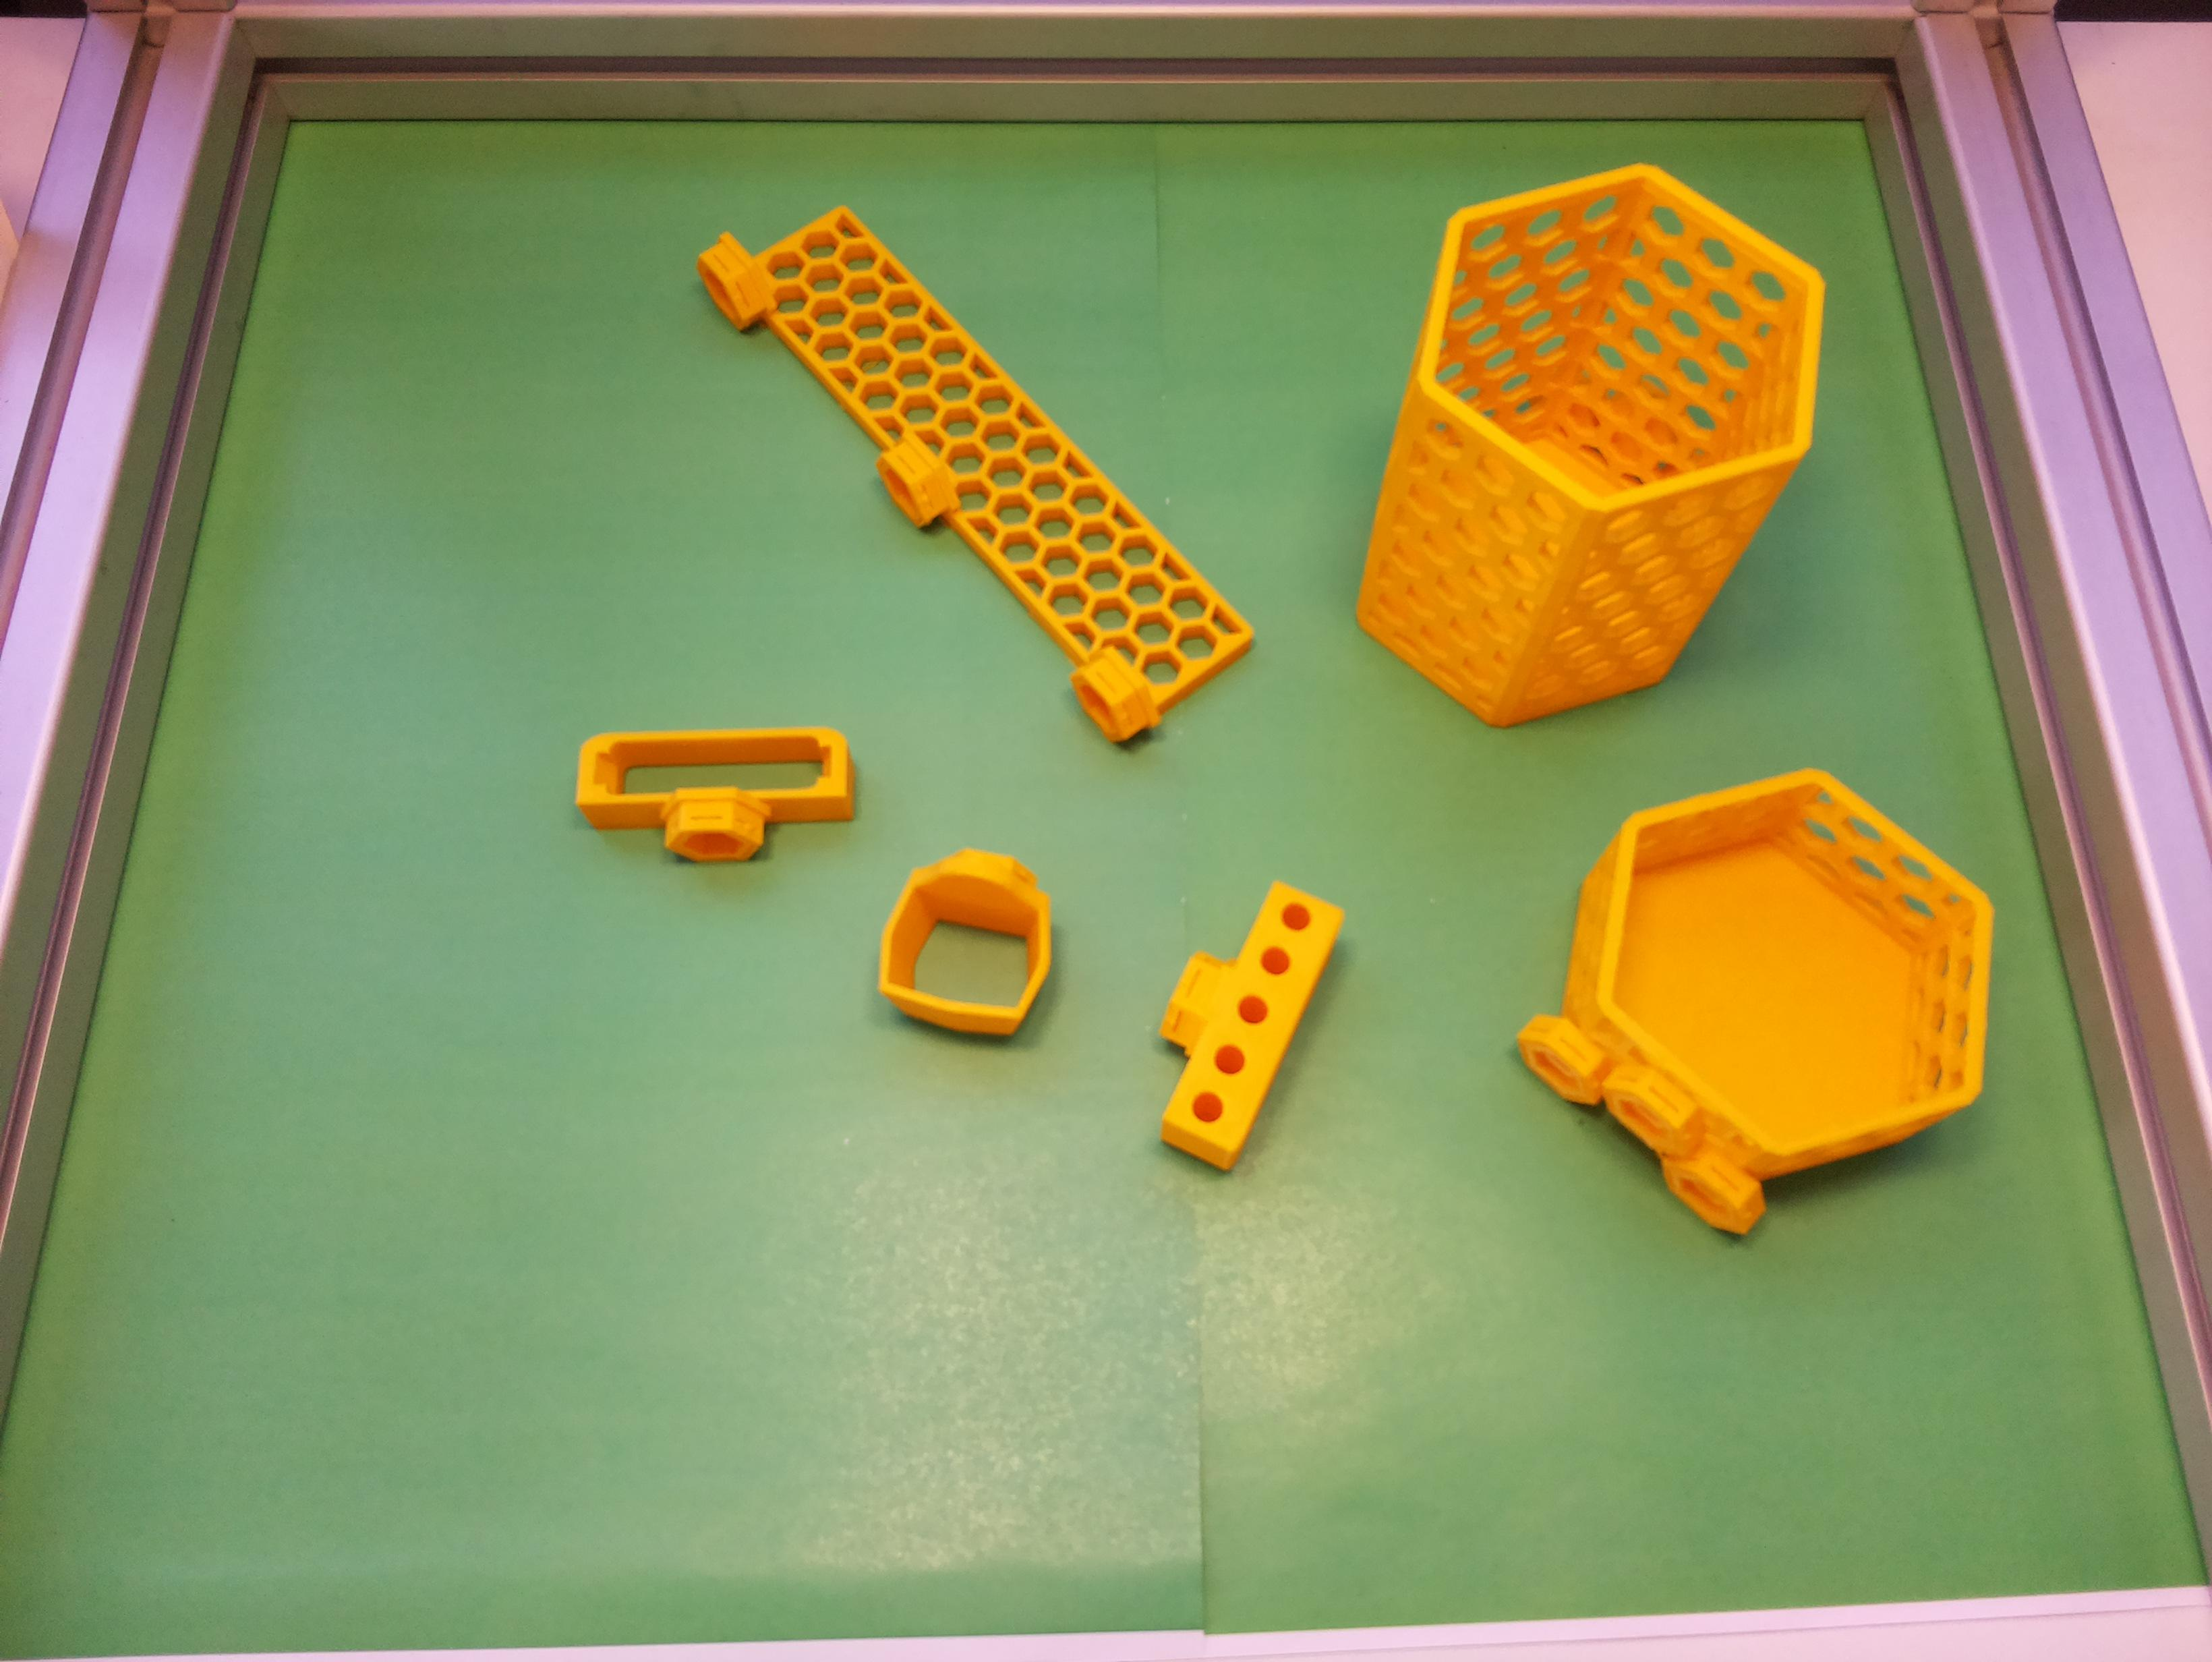bit_holder: (1114, 859, 1350, 1175)
bottle_holder: (1463, 695, 2078, 1306)
cup_holder: (1332, 120, 1866, 784)
cutter_holder: (573, 723, 859, 868)
scissor_holder: (854, 821, 1088, 1063)
tool_holder: (670, 159, 1261, 763)
